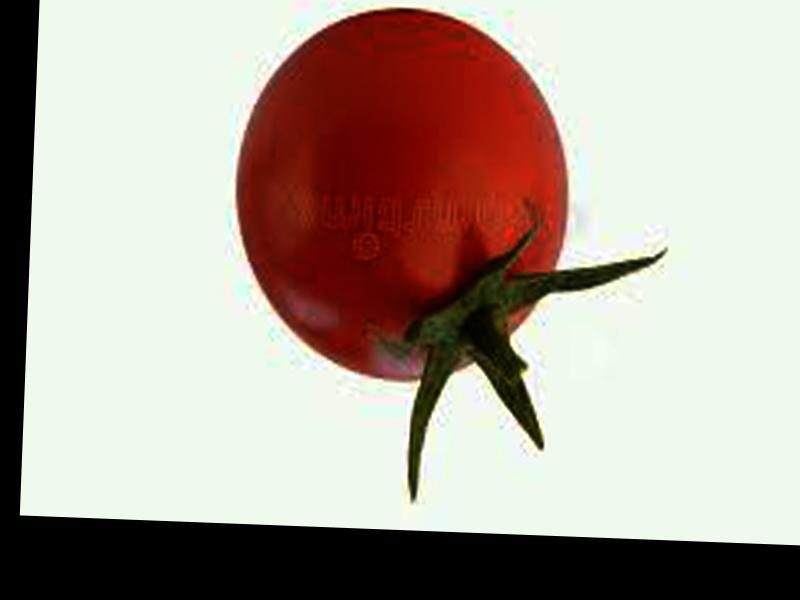Tomato: (228, 1, 571, 384)
